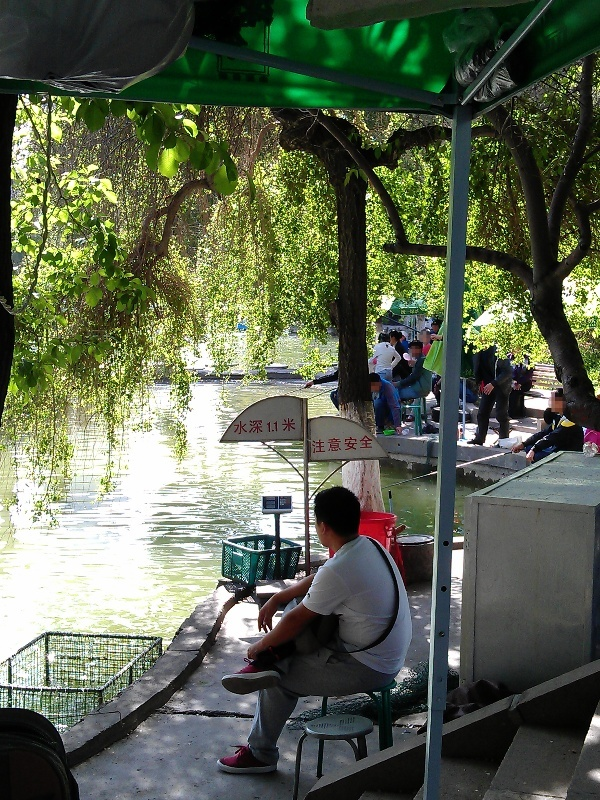text: (321, 434, 336, 456), (337, 434, 352, 456), (353, 434, 368, 456), (241, 416, 256, 436), (257, 416, 272, 436), (273, 416, 288, 436), (310, 434, 320, 456), (289, 416, 299, 436), (369, 434, 377, 456), (234, 416, 240, 436), (401, 309, 416, 314), (417, 309, 419, 314)
